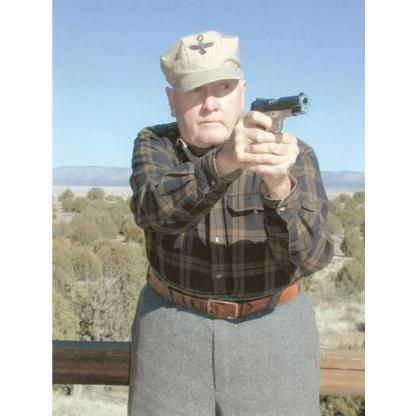gun: (242, 90, 310, 160)
